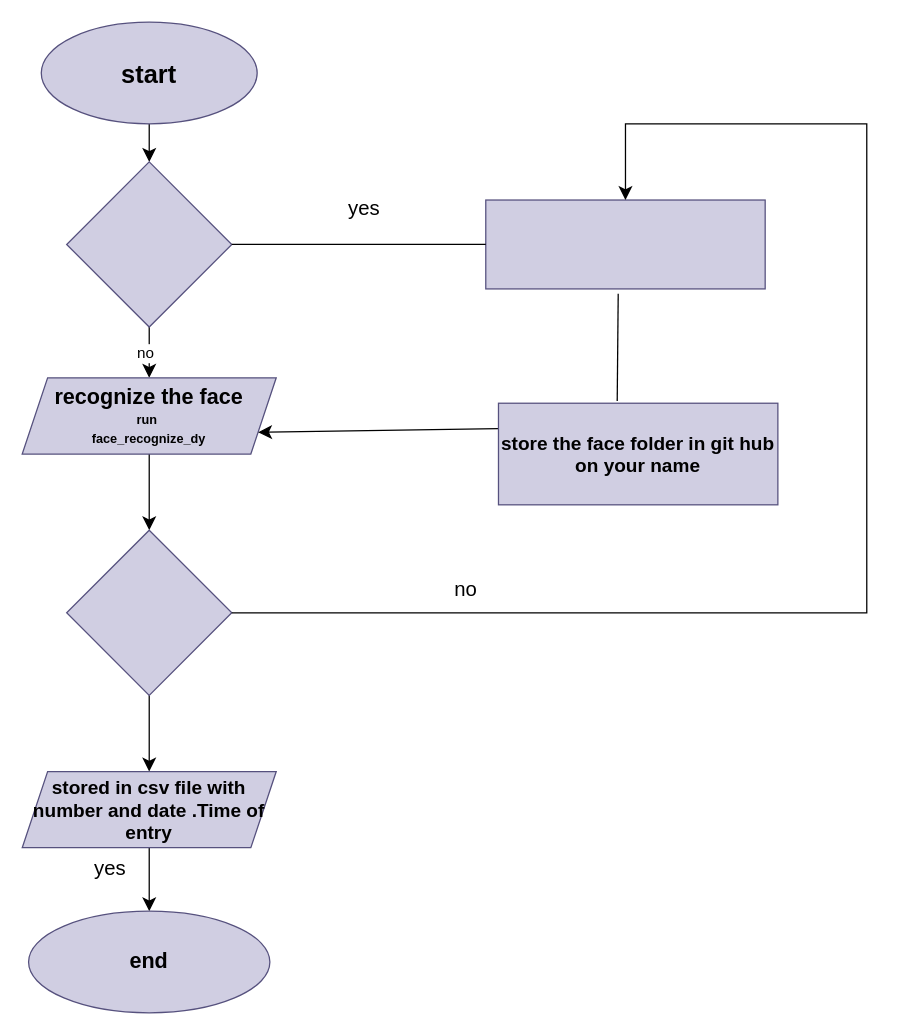
Image size: 902x1035. Some labels were removed from this diagram. Each missing label, with the centre of its shape:
"face recognized" goes at (x=148, y=612).
"give your photograph" goes at (x=625, y=244).
"new user? run create_data_set_dy" goes at (x=148, y=244).
